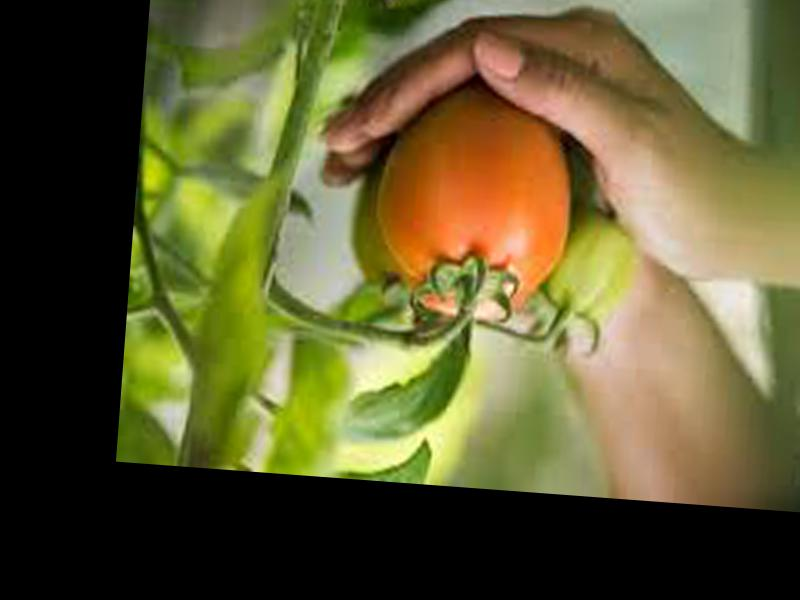Tomato: (372, 90, 577, 323)
